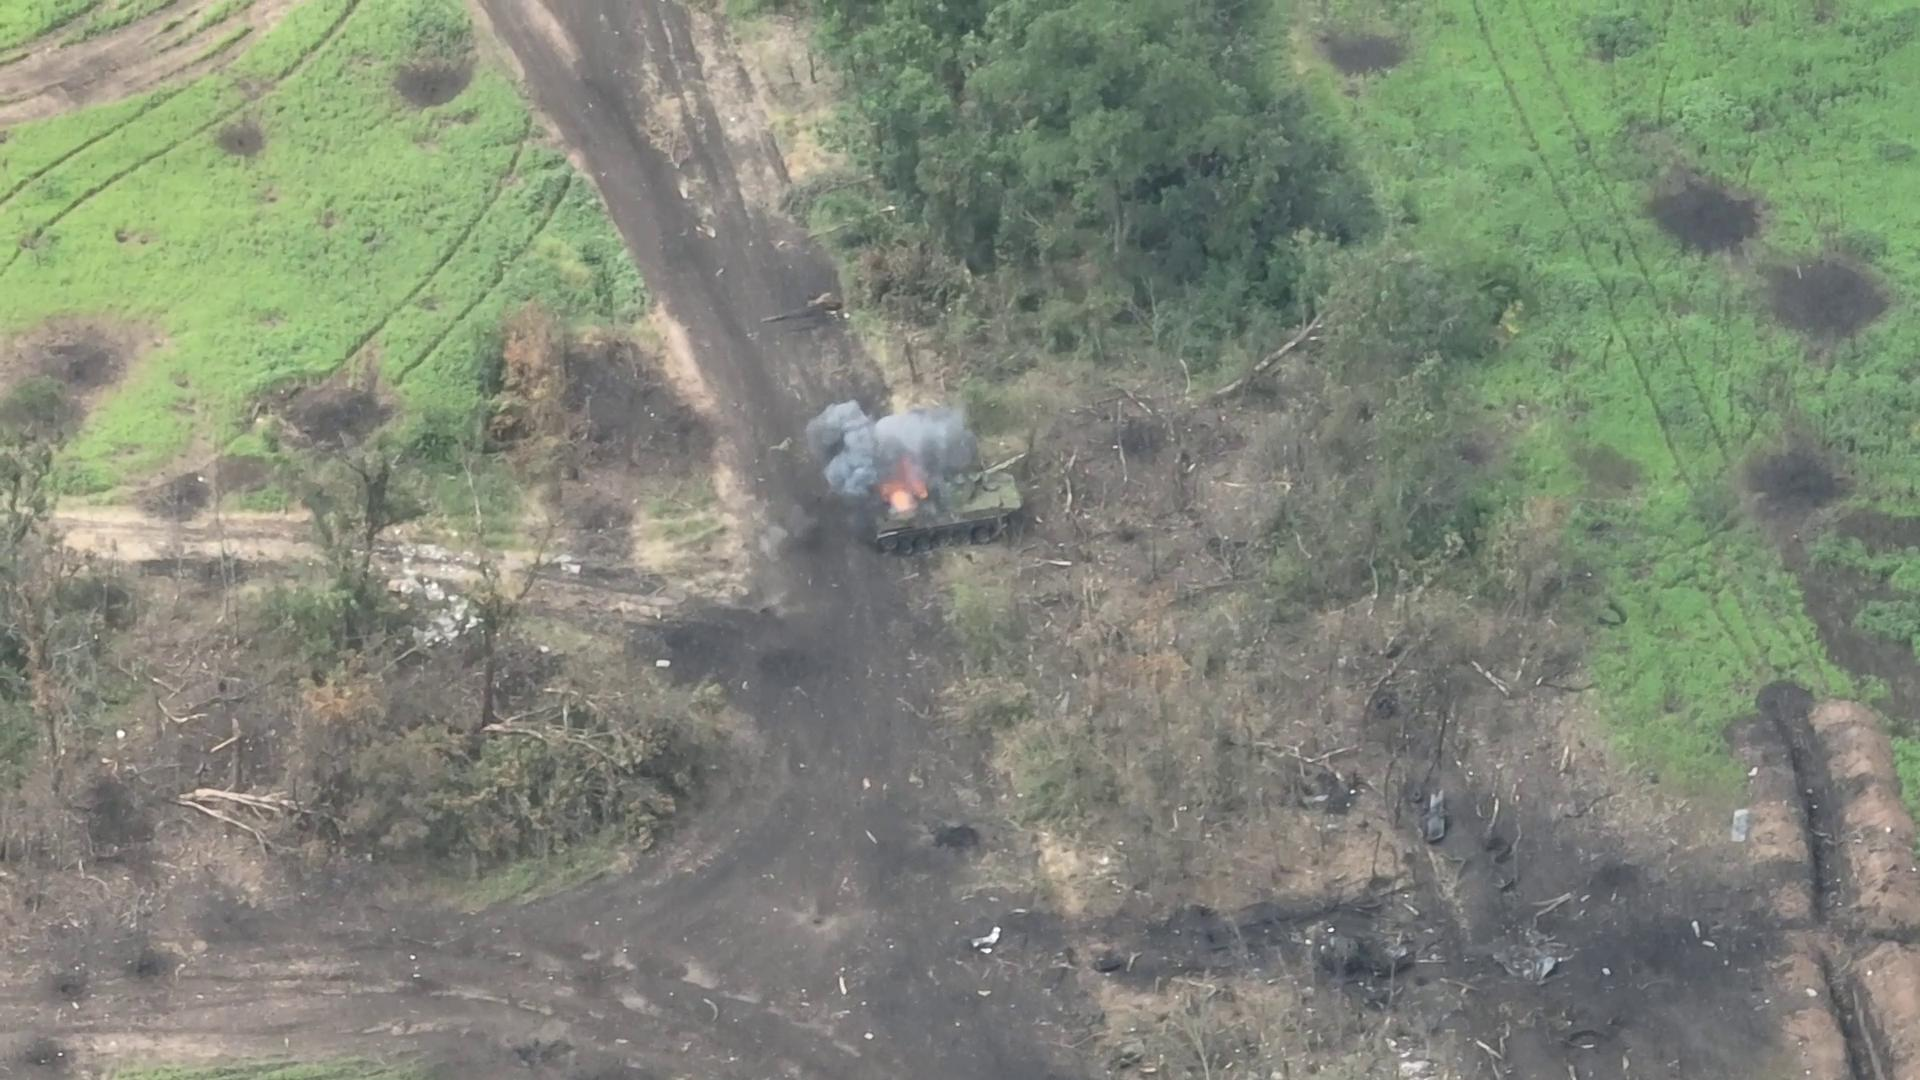tank: (866, 446, 1029, 560)
